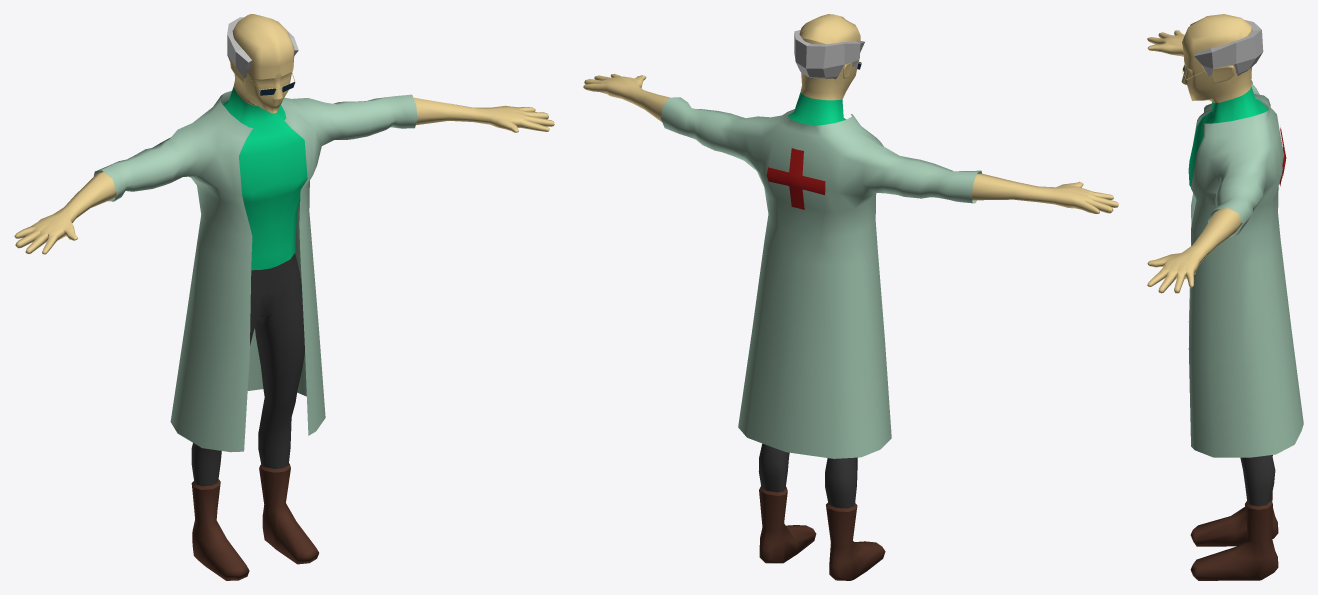
Rendered from Doctor.fbx.
3 views of the same model, side by side, from view 1: azimuth 30°, elevation 25°; view 2: azimuth 150°, elevation 25°; view 3: azimuth 270°, elevation 25° (orthographic).
Visible parts, largest first — view 1: Doctor; view 2: Doctor; view 3: Doctor.
Part boxes in pixels (x1,y1,x2,y2): Doctor: [14, 14, 554, 580]; Doctor: [583, 14, 1118, 580]; Doctor: [1147, 14, 1303, 580].
Size of the model in its own units: 190 by 184 by 48.32.
